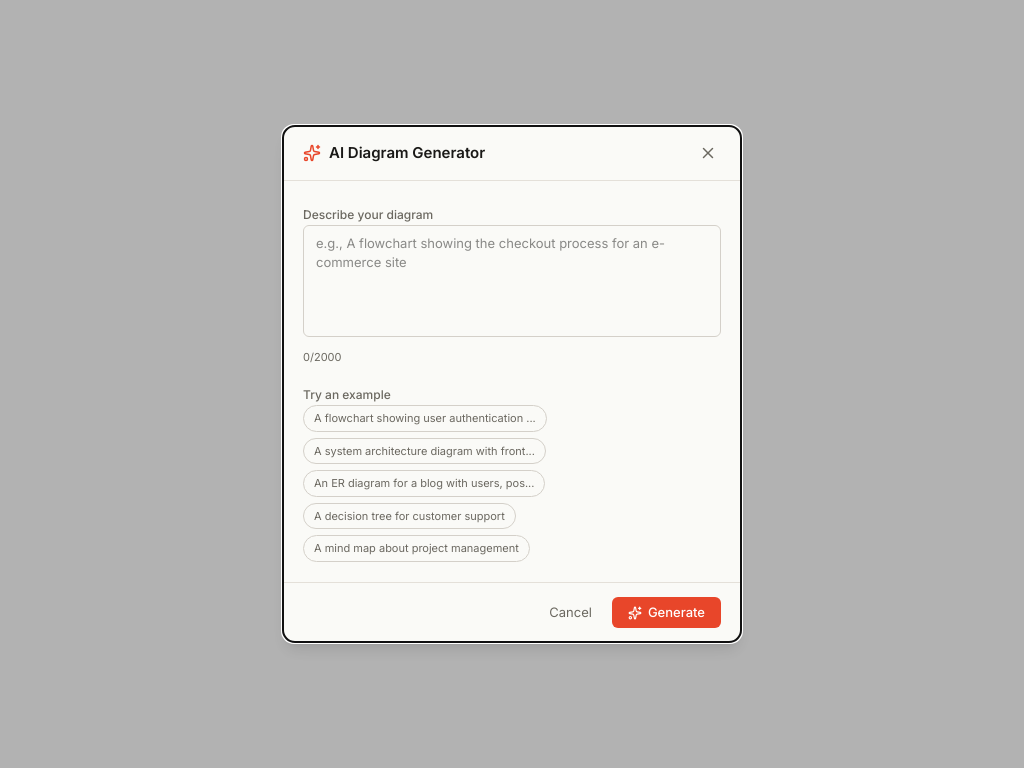
Test case: AIGenerateModal › does not show a raw JSON parsing exception for a non-JSON upstream response
This screenshot has width=1024, height=768.
Replace the text in the text box with placeholder "checkout process" with "A simple architecture diagram" at (512, 281), box 303,225 -> 721,337
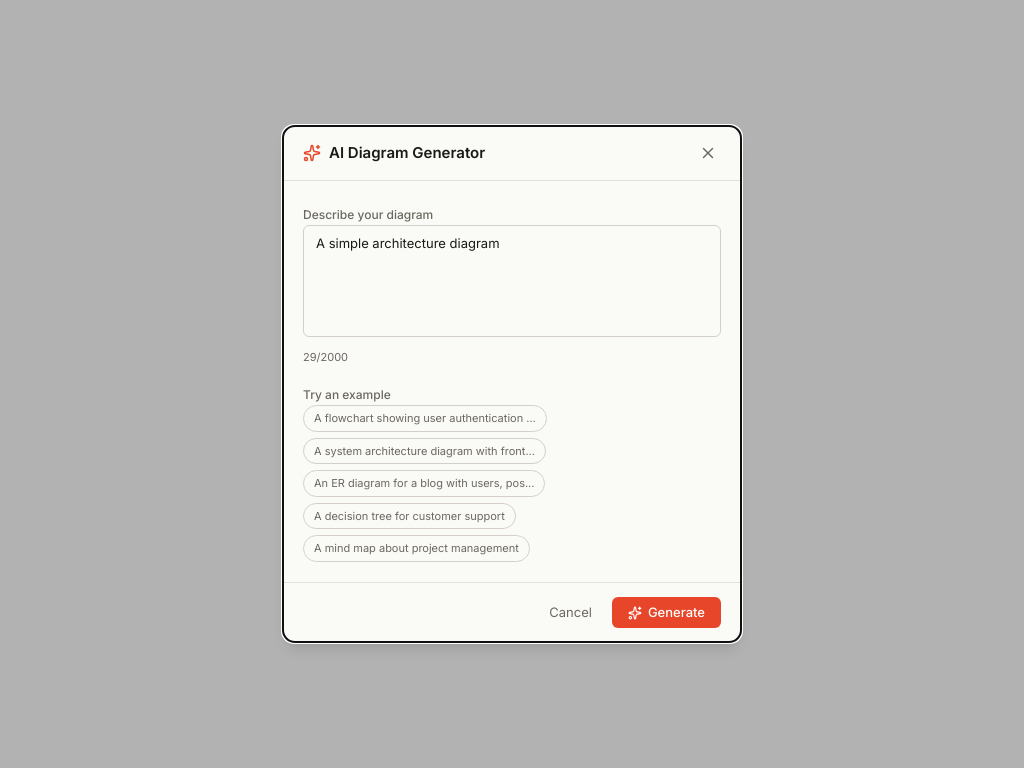
Click the button "Generate".
click(666, 613)  # box 612,597 -> 721,628
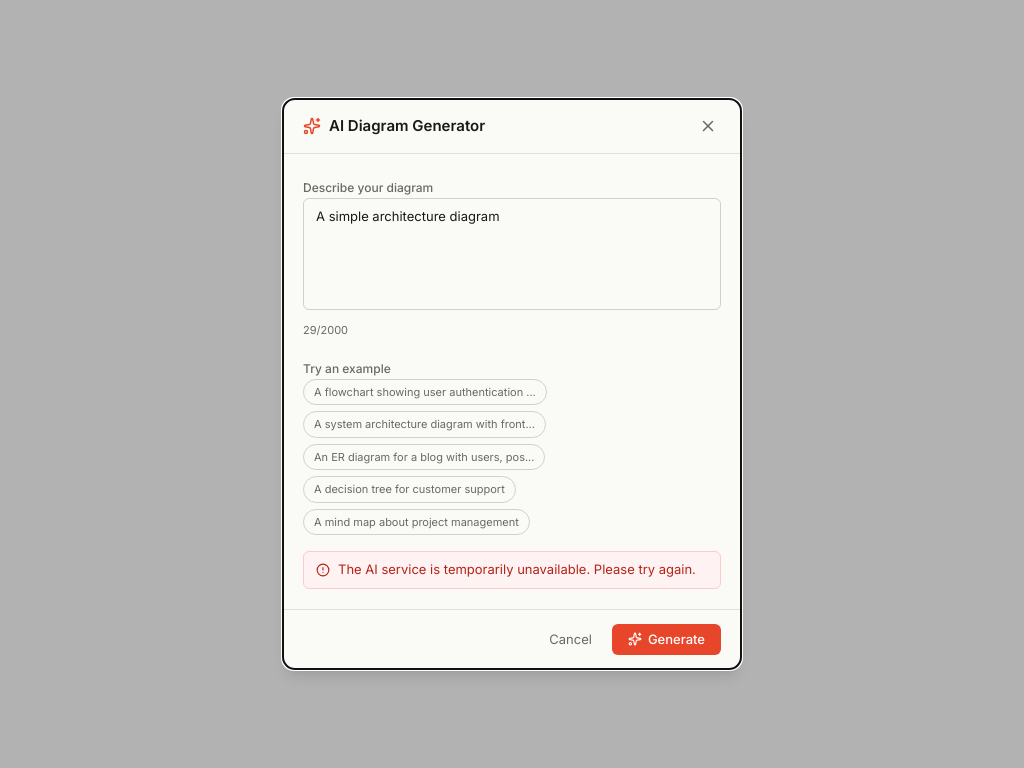
expect the message does not show "Unexpected token": met, box 303,551 -> 721,588
expect the message "The AI service is temporarily unavailable. Please try again." is shown: met, box 303,551 -> 721,588
